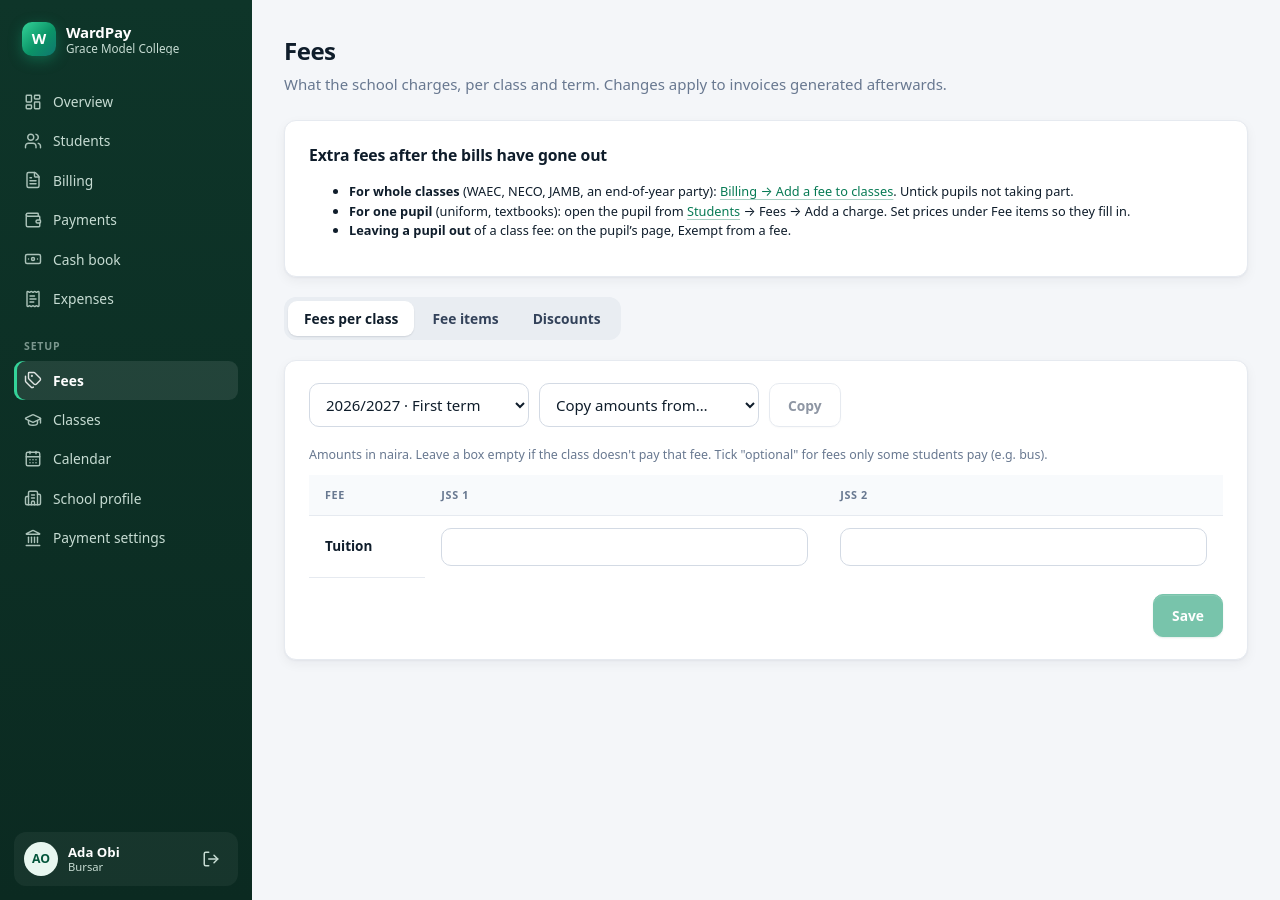
Test case: fees and billing › a fee saved for a class goes onto the bills already sent, and says so
Type "100000" into the field named "Tuition for JSS 2". click: point(1024, 547)
box: [840,528,1207,566]
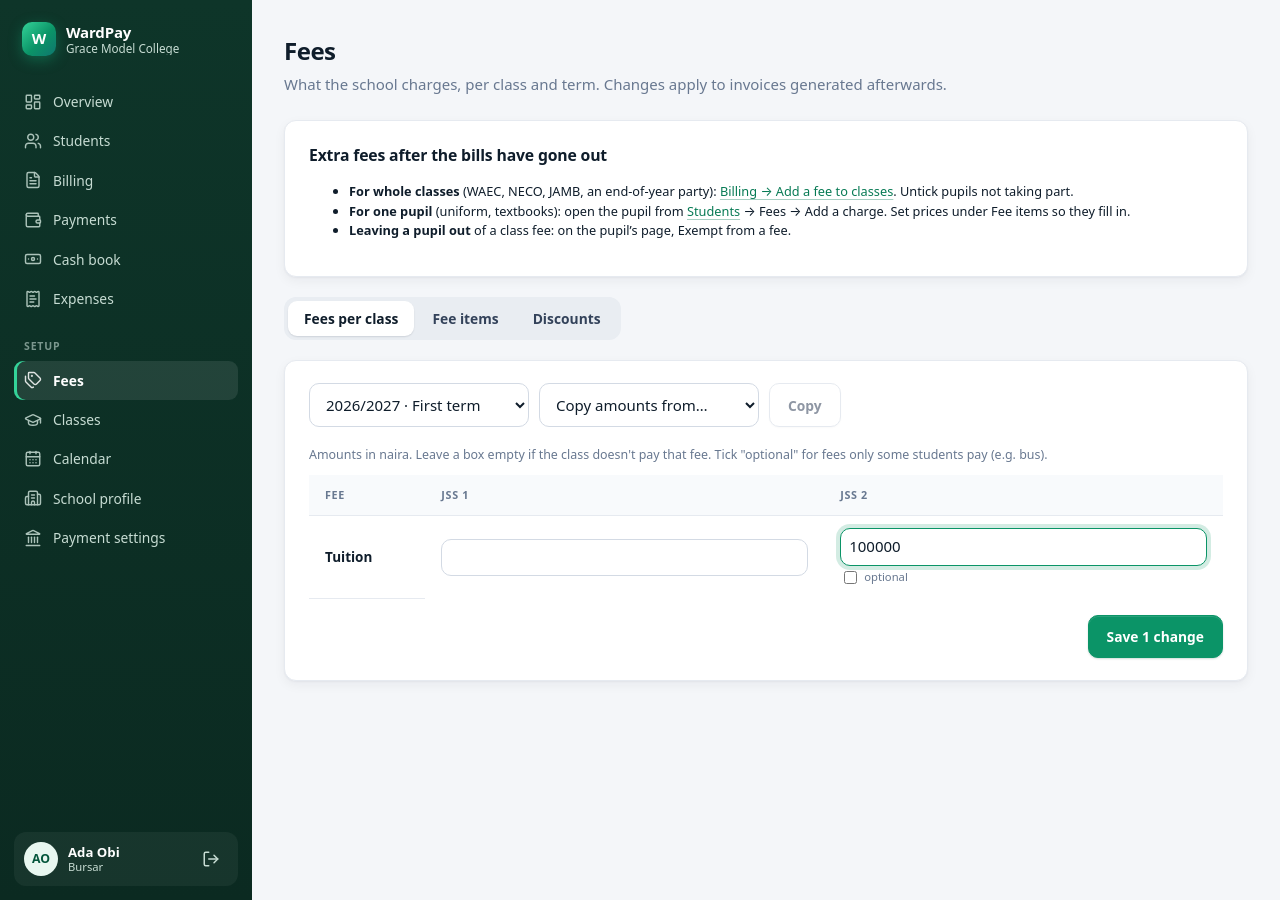
Click the button "Save 1 change". click: point(1155, 637)
box: [1088,615,1223,658]
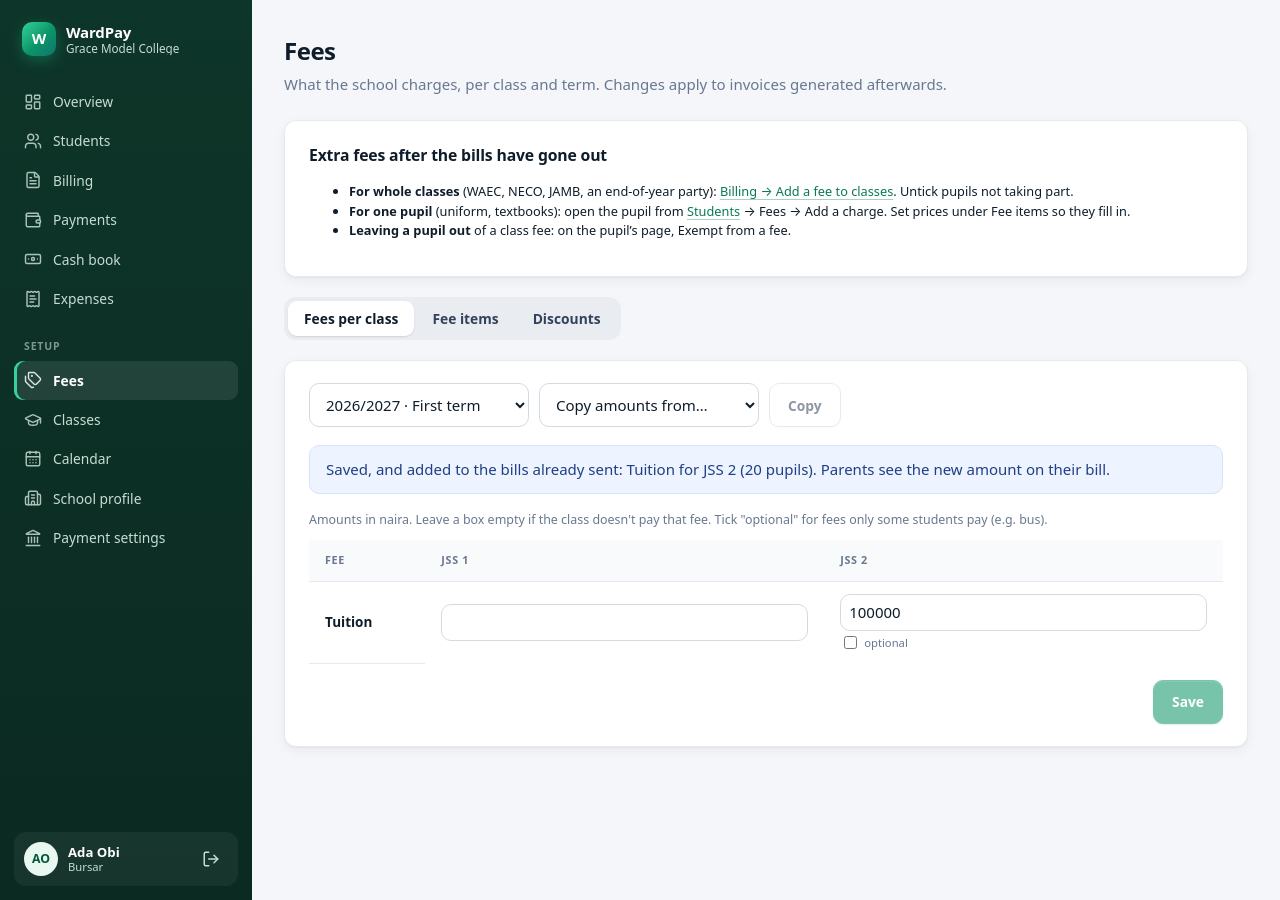
Expected: the text "added to the bills already sent: Tuition for JSS 2 (20 pupils)" is shown, [309,445,1223,494]
